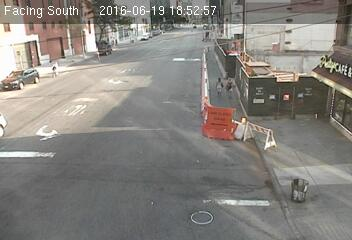neg: (281, 26, 296, 46), (202, 26, 213, 40)
pos: (221, 74, 238, 96), (46, 58, 60, 77), (209, 75, 223, 94)
